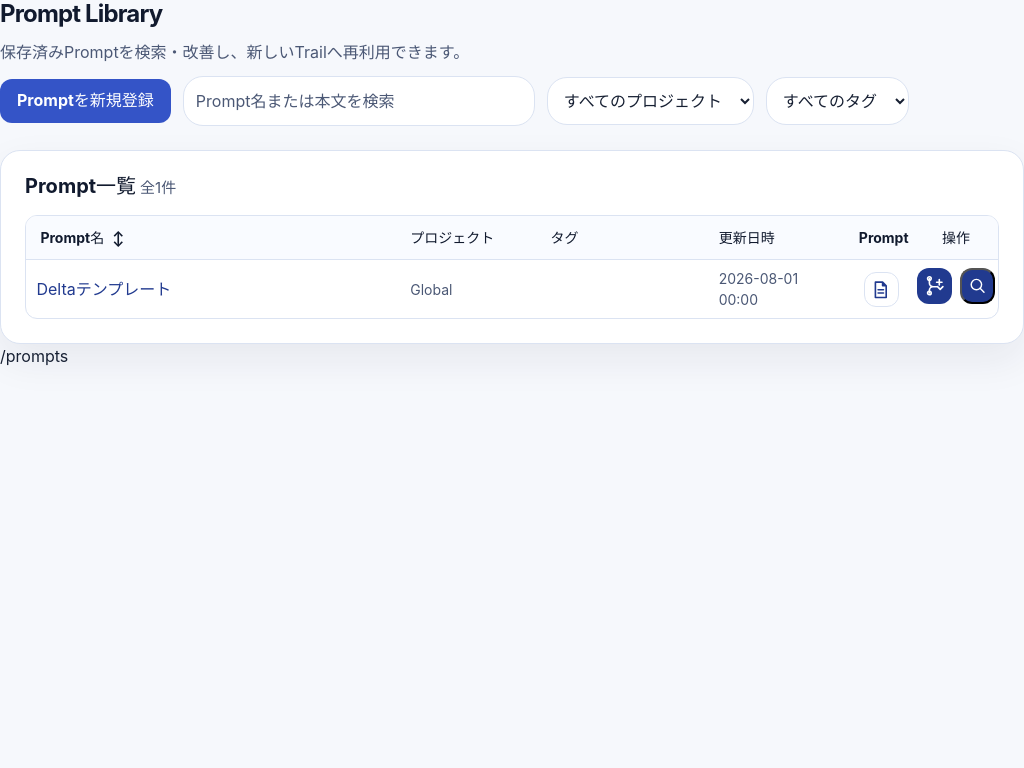
Test: PromptLibraryPage › does not auto-focus the variable panel when it appears
Click the button named "「Deltaテンプレート」のPrompt本文を表示" at (881, 290), box 864,272 -> 899,307
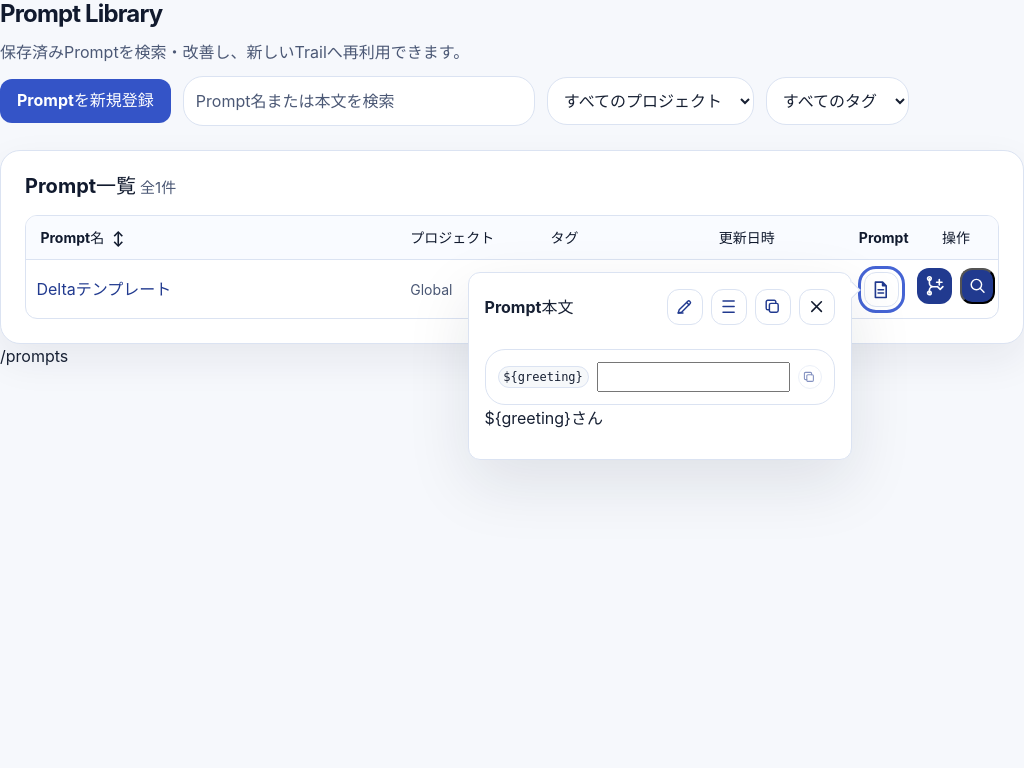
Expected: the field labelled "${greeting}" is shown, 597,362 -> 790,392
